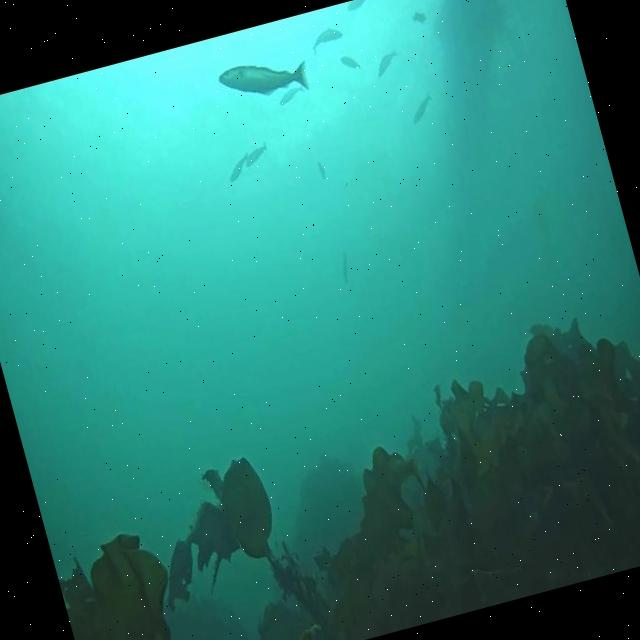fish: (212, 45, 312, 114), (307, 25, 345, 59), (407, 93, 438, 127), (374, 46, 404, 76), (224, 152, 253, 182), (242, 140, 272, 167), (336, 249, 353, 286), (339, 52, 362, 75), (408, 8, 428, 30), (345, 0, 374, 14), (316, 161, 328, 181)
